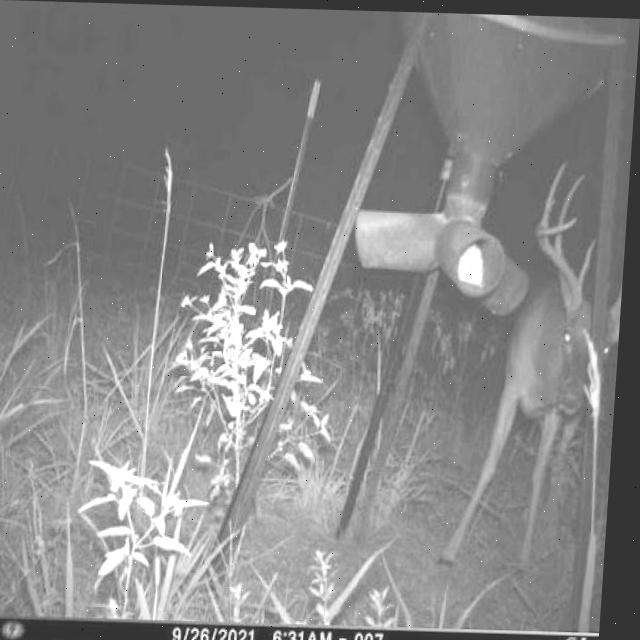Deer: (435, 148, 631, 584)
